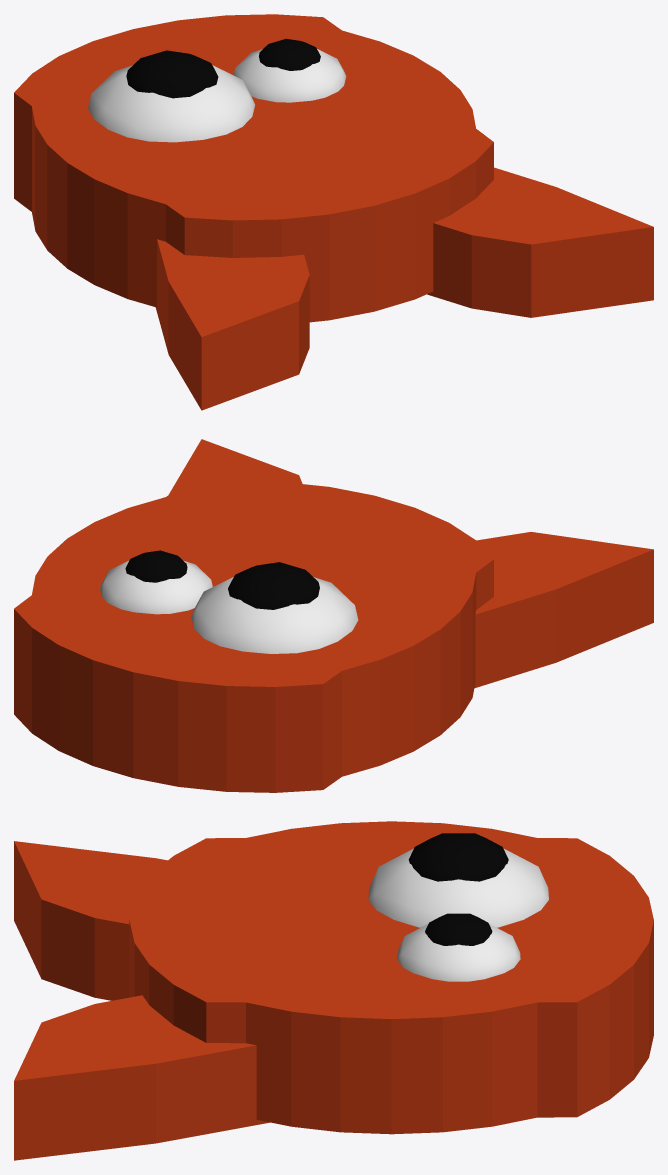
File: mob.glb
3 renders of one model, top to bottom at view 1: azimuth 30°, elevation 25°; view 2: azimuth 150°, elevation 25°; view 3: azimuth 270°, elevation 25°, orthographic. The views are drawn at different scales.
Visible parts, largest first — view 1: Cylinder, Cube, Icosphere, Icosphere.002, Icosphere.001, Icosphere.003; view 2: Cylinder, Cube, Icosphere, Icosphere.002, Icosphere.001, Icosphere.003; view 3: Cylinder, Cube, Icosphere, Icosphere.002, Icosphere.001, Icosphere.003.
Part boxes in pixels (box(x1,y1,x2,y2)): Cylinder: box(14, 14, 493, 322); Cube: box(155, 167, 653, 410); Icosphere: box(88, 65, 254, 142); Icosphere.002: box(233, 49, 346, 102); Icosphere.001: box(126, 50, 218, 98); Icosphere.003: box(259, 38, 320, 70); Cylinder: box(14, 481, 493, 792); Cube: box(168, 439, 653, 688); Icosphere: box(191, 577, 358, 653); Icosphere.002: box(100, 560, 212, 614); Icosphere.001: box(228, 562, 319, 609); Icosphere.003: box(125, 550, 187, 582); Cylinder: box(129, 821, 653, 1134); Cube: box(14, 841, 269, 1160); Icosphere: box(368, 848, 548, 927); Icosphere.002: box(397, 924, 520, 981); Icosphere.001: box(408, 833, 508, 881); Icosphere.003: box(425, 913, 492, 945).
Size of the model in its own units: 2.84 by 0.967 by 3.21.
